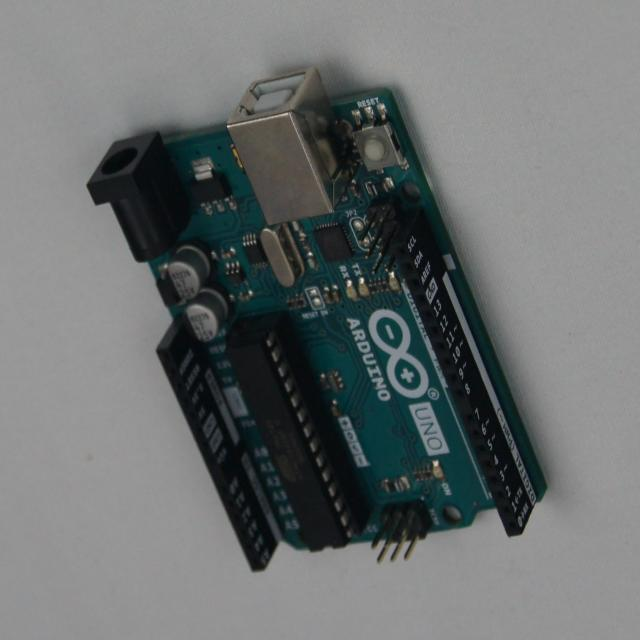Arduino Uno -Green-: (88, 68, 547, 571)
